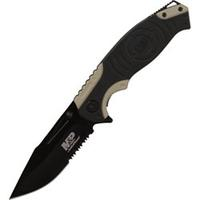knife: (7, 5, 167, 199)
